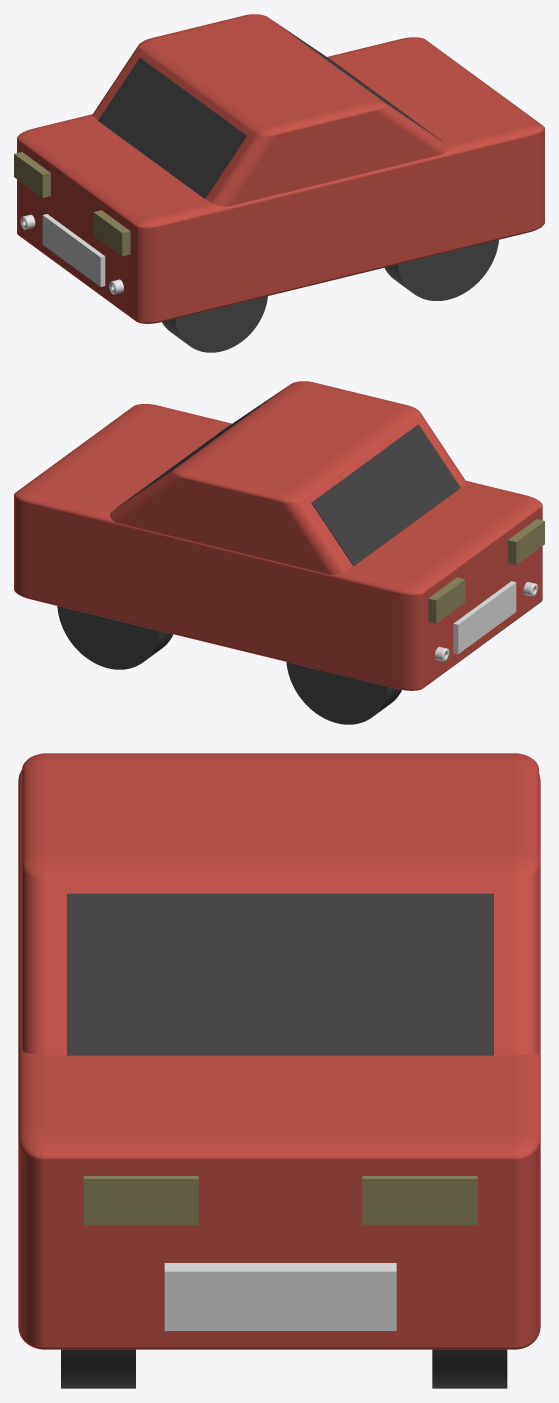
The model's file is car-opponent-export.fbx.
3 renders of one model, top to bottom at view 1: azimuth 30°, elevation 25°; view 2: azimuth 150°, elevation 25°; view 3: azimuth 270°, elevation 25°, orthographic. The views are drawn at different scales.
Visible parts, largest first — view 1: Cube.001, Cube, Cube.002, Cylinder.003, Cylinder.000, Cube.006, Cube.005, Cube.004, Cube.003; view 2: Cube.001, Cube, Cube.002, Cylinder.002, Cylinder.001, Cube.006, Cube.004, Cube.005, Cube.003; view 3: Cube.001, Cube, Cube.003, Cube.009, Cube.008, Cube.007, Cylinder.002, Cylinder.003.
Part boxes in pixels (x1,y1,x2,y2): Cube.001: (17, 37, 544, 323); Cube: (92, 14, 448, 206); Cube.002: (98, 57, 246, 198); Cylinder.003: (384, 240, 498, 300); Cylinder.000: (162, 296, 267, 352); Cube.006: (42, 214, 105, 286); Cube.005: (93, 210, 130, 256); Cube.004: (14, 152, 50, 197); Cube.003: (278, 24, 441, 140); Cube.001: (14, 404, 542, 690); Cube: (110, 381, 466, 574); Cube.002: (311, 424, 460, 565); Cylinder.002: (57, 606, 173, 669); Cylinder.001: (286, 662, 401, 724); Cube.006: (453, 581, 516, 654); Cube.004: (428, 577, 465, 623); Cube.005: (508, 519, 544, 565); Cube.003: (117, 391, 280, 507); Cube.001: (18, 770, 540, 1349); Cube: (22, 753, 538, 1055); Cube.003: (67, 893, 493, 1055); Cube.009: (164, 1263, 396, 1330); Cube.008: (362, 1176, 477, 1225); Cube.007: (83, 1176, 198, 1225); Cylinder.002: (432, 1349, 507, 1388); Cylinder.003: (61, 1349, 135, 1388).
Bounding box in the file's own units: 3.94 × 1.95 × 2.09.
